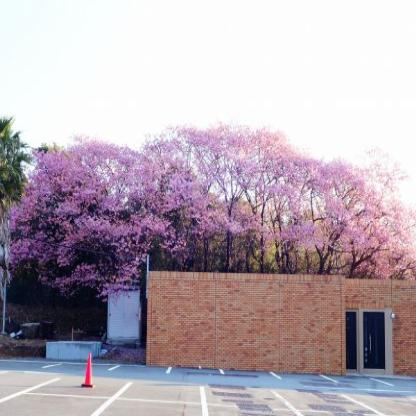KawazuSakura: (0, 132, 415, 278), (80, 351, 94, 388)
